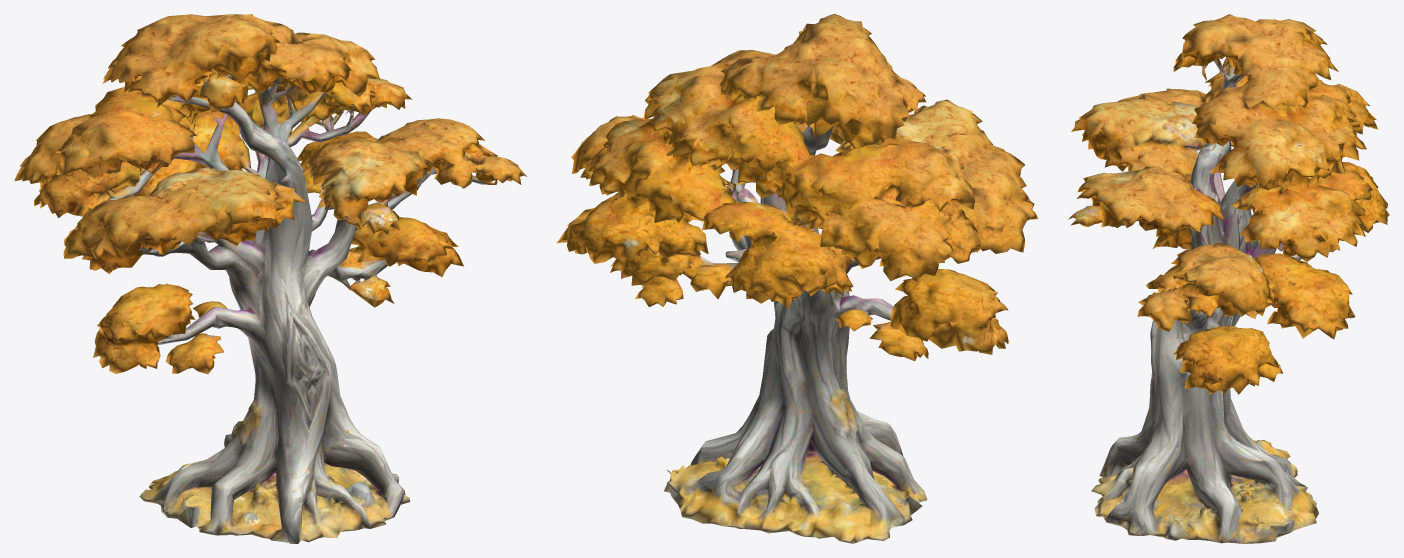
File: mallorn-tree-3.glb
3 renders of one model, left to right at view 1: azimuth 30°, elevation 25°; view 2: azimuth 150°, elevation 25°; view 3: azimuth 270°, elevation 25°, orthographic. The views are drawn at different scales.
Size of the model in its own units: 1.85 by 1.91 by 1.23.
Materials: 1 (1 with a texture image).
